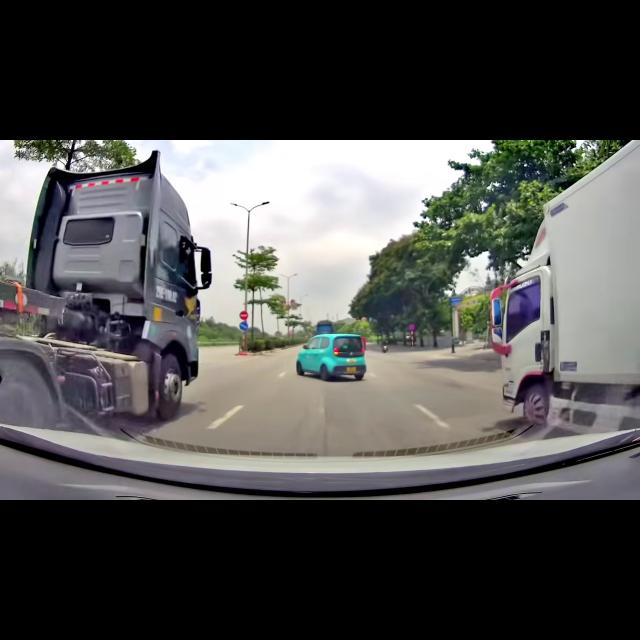car: (296, 333, 366, 380)
motorcycle: (382, 345, 388, 352)
truck: (0, 151, 211, 427), (490, 140, 639, 432), (315, 320, 334, 334)
